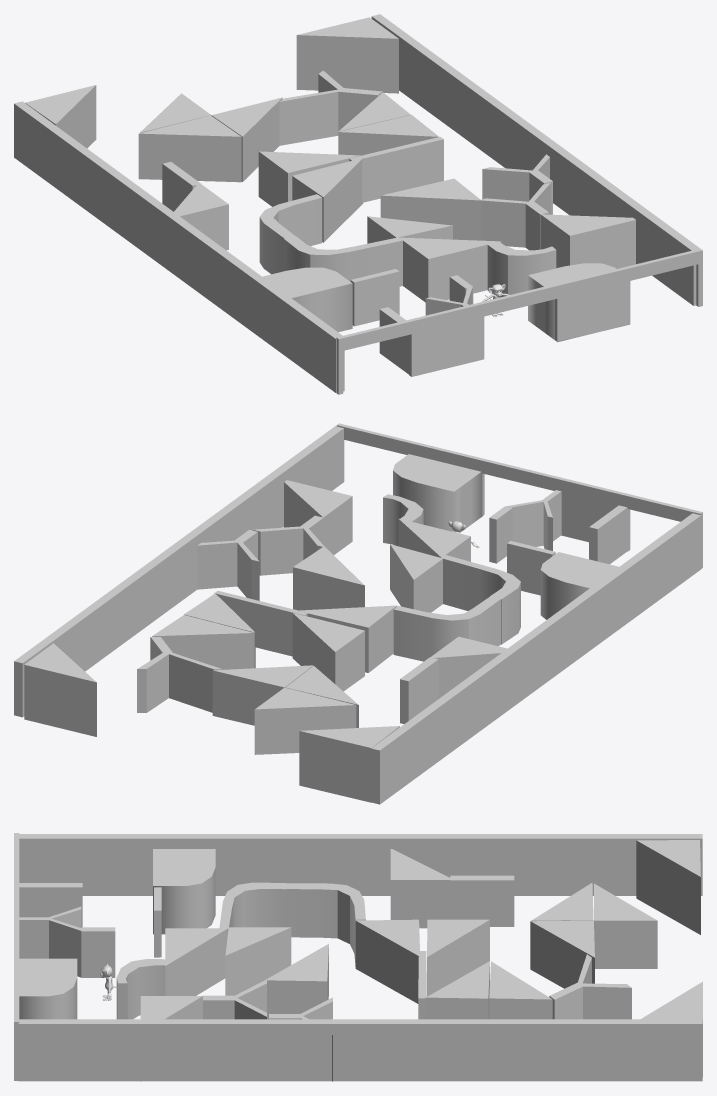
Rendered from LabirintoFallGuys.fbx.
The picture shows the model from 3 angles, top to bottom: view 1: azimuth 30°, elevation 25°; view 2: azimuth 150°, elevation 25°; view 3: azimuth 270°, elevation 25°; orthographic projection. The views are drawn at different scales.
Parts seen in each view (by area): view 1: ParedeReta.002, ParedeReta.001, MolduraDaPorta, CurvaReta.013, CurvaReta.010, CurvaReta, CurvaReta.001, ParedeBifurcacao.003, CurvaReta.003, ParedeReta.005, ParedeTorta.001, CurvaArredondada.001 (+18 smaller); view 2: ParedeReta.002, ParedeReta.001, MolduraDaPorta, CurvaReta.012, CurvaReta.013, CurvaArredondada, CurvaReta.011, ParedeTorta.002, CurvaReta.009, ParedeBifurcacao.003, ParedeTorta.001, CurvaReta.007 (+19 smaller); view 3: ParedeReta.001, ParedeReta.002, CurvaReta.012, CurvaArredondada.001, CurvaReta.004, CurvaReta.011, ParedeTorta.002, CurvaReta.001, CurvaReta.009, CurvaReta.002, CurvaReta.008, CurvaArredondada (+19 smaller).
Part boxes in pixels (x1,y1,x2,y2): ParedeReta.002: (14, 101, 344, 393); ParedeReta.001: (371, 14, 700, 305); MolduraDaPorta: (336, 248, 702, 394); CurvaReta.013: (296, 17, 398, 93); CurvaReta.010: (138, 115, 241, 182); CurvaReta: (540, 214, 635, 268); CurvaReta.001: (400, 237, 501, 302); ParedeBifurcacao.003: (279, 70, 382, 145); CurvaReta.003: (380, 178, 481, 240); ParedeReta.005: (349, 136, 443, 202); ParedeTorta.001: (284, 236, 402, 286); CurvaArredondada.001: (262, 267, 352, 332); ParedeReta.002: (371, 513, 701, 804); ParedeReta.001: (14, 426, 344, 717); MolduraDaPorta: (336, 423, 702, 568); CurvaReta.012: (299, 726, 399, 802); CurvaReta.013: (24, 643, 96, 736); CurvaArredondada: (393, 454, 483, 532); CurvaReta.011: (254, 687, 356, 754); ParedeTorta.002: (393, 596, 500, 661); CurvaReta.009: (292, 613, 364, 691); ParedeBifurcacao.003: (137, 637, 223, 712); ParedeTorta.001: (441, 555, 520, 644); CurvaReta.007: (152, 615, 254, 669); ParedeReta.001: (18, 1019, 702, 1081); ParedeReta.002: (19, 834, 702, 895); CurvaReta.012: (636, 840, 700, 934); CurvaArredondada.001: (153, 849, 215, 934); CurvaReta.004: (355, 919, 420, 1003); CurvaReta.011: (594, 883, 657, 968); ParedeTorta.002: (285, 883, 365, 966); CurvaReta.001: (165, 928, 227, 995); CurvaReta.009: (427, 919, 489, 996); CurvaReta.002: (225, 927, 291, 995); CurvaReta.008: (530, 920, 594, 988); CurvaArredondada: (19, 958, 77, 1019).
Bounding box in the file's own units: 1689 × 251 × 2584.
